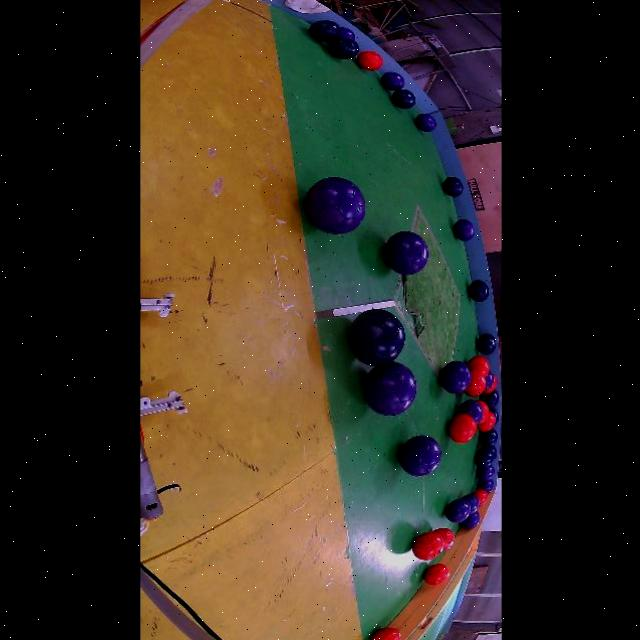B: (348, 310, 404, 366), (327, 38, 357, 59), (391, 88, 415, 110), (467, 279, 488, 302), (475, 334, 496, 355), (442, 176, 463, 196), (478, 390, 498, 409), (473, 449, 492, 468), (478, 429, 497, 447), (484, 446, 496, 461)
P: (304, 178, 364, 234), (362, 361, 415, 415), (384, 232, 428, 274), (439, 361, 470, 394), (308, 20, 338, 42), (457, 400, 482, 424), (444, 500, 469, 524), (467, 279, 488, 302), (453, 219, 473, 242), (380, 72, 404, 91), (414, 113, 435, 132), (460, 495, 478, 515), (459, 512, 479, 530), (474, 464, 493, 482), (475, 479, 493, 493), (337, 27, 353, 41), (484, 371, 493, 390)
R: (411, 532, 443, 560), (448, 414, 475, 443), (463, 370, 484, 396), (423, 564, 448, 585), (467, 355, 489, 378), (356, 51, 381, 71), (433, 529, 454, 550), (477, 408, 494, 432), (477, 412, 496, 432), (370, 628, 400, 640), (472, 488, 487, 507), (479, 402, 486, 410)
